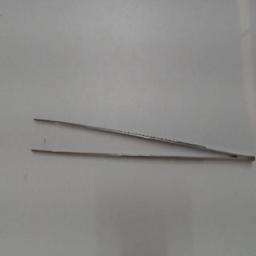DeBakey Dissector: (16, 110, 256, 172)
